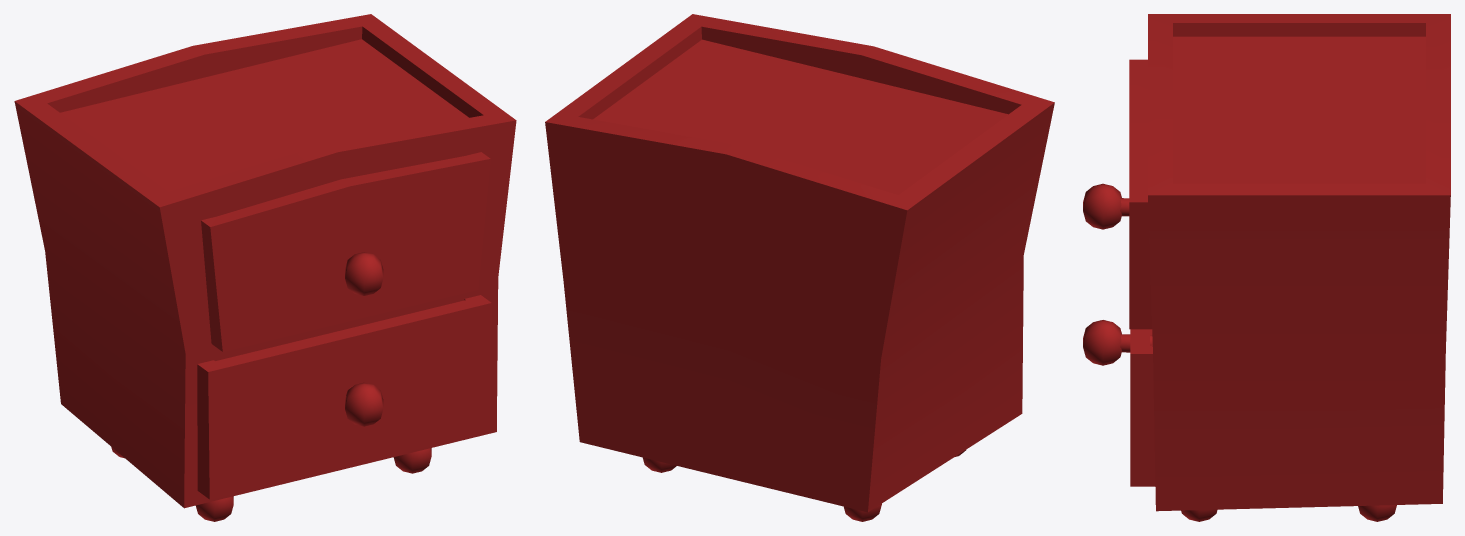
Rendered from MESITA.fbx.
3 views of the same model, side by side, from view 1: azimuth 30°, elevation 25°; view 2: azimuth 150°, elevation 25°; view 3: azimuth 270°, elevation 25° (orthographic). The views are drawn at different scales.
Visible parts, largest first — view 1: Mesita1, polySurface28, polySurface27, polySurface21; view 2: Mesita1; view 3: Mesita1, polySurface27, polySurface28.
Boxes of the visible parts, left/top/right/bottom form: Mesita1: left=14, top=14, right=516, bottom=508; polySurface28: left=197, top=295, right=491, bottom=499; polySurface27: left=201, top=152, right=490, bottom=351; polySurface21: left=195, top=496, right=233, bottom=521; Mesita1: left=545, top=14, right=1054, bottom=521; Mesita1: left=1148, top=14, right=1450, bottom=521; polySurface27: left=1083, top=59, right=1152, bottom=329; polySurface28: left=1083, top=320, right=1155, bottom=486.
Size of the model in its own units: 48.2 by 46.69 by 41.28.
